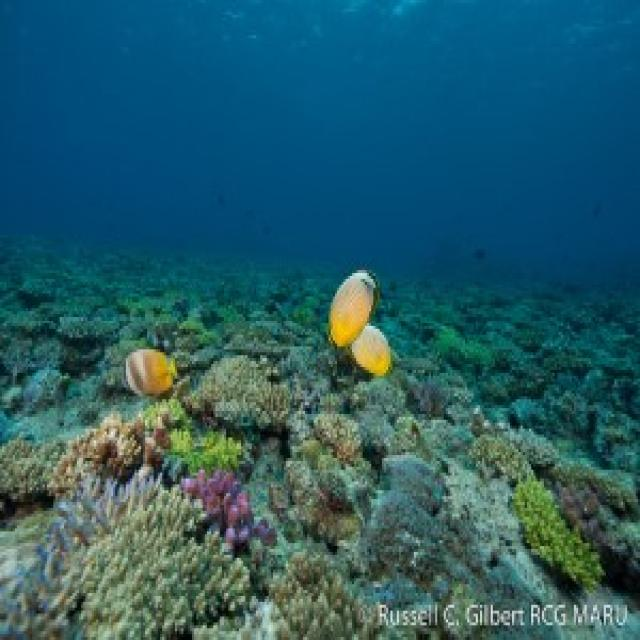Bleached: (449, 459, 517, 556)
Healthy: (82, 485, 251, 638), (362, 456, 530, 603), (1, 480, 159, 635), (78, 400, 248, 482), (287, 412, 374, 547), (513, 482, 600, 588), (272, 556, 381, 638), (191, 356, 289, 433), (182, 471, 274, 550), (52, 418, 144, 494), (1, 444, 67, 503), (61, 441, 78, 485)
